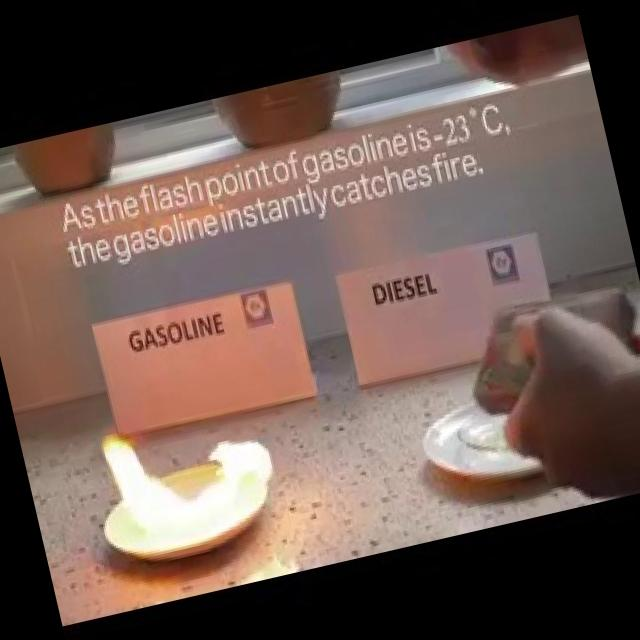Fire: (92, 396, 282, 563)
